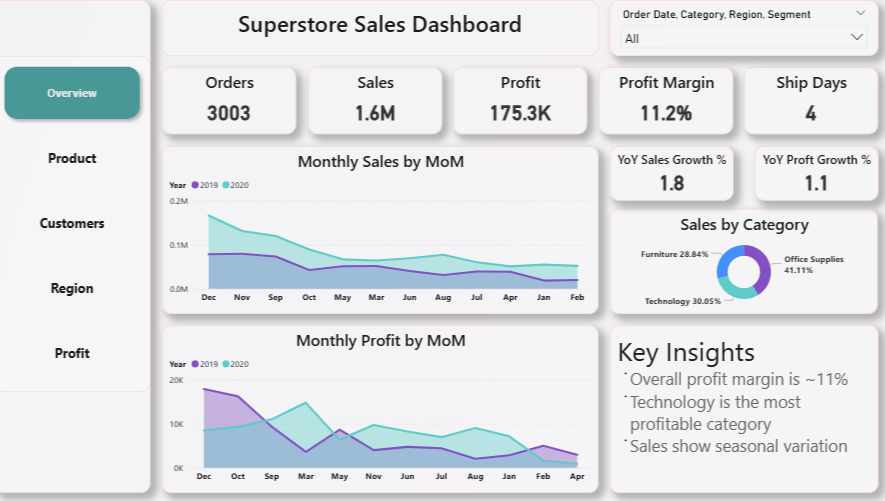

The page's visual inventory and layout, read from the dashboard file:
{"tool":"powerbi","page":{"name":"Overview","canvas":[1280,720],"ordinal":0},"visuals":[{"type":"group","id":"g1","title":"Group 1","box":[0,0,224,704],"z":0},{"type":"shape","box":[0,0,224,704],"z":0,"group":"g1"},{"type":"pageNavigator","box":[0,80,224,480],"z":1000,"group":"g1"},{"type":"card","title":"Profit","fields":{"Values":["Measures_Tables.Total Profit"]},"box":[656,96,192,96],"z":1000},{"type":"card","title":"Sales","fields":{"Values":["Measures_Tables.Total Sales"]},"box":[448,96,192,96],"z":2000},{"type":"card","title":"Orders","fields":{"Values":["Measures_Tables.Total Orders"]},"box":[240,96,192,96],"z":3000},{"type":"card","title":"Ship Days","fields":{"Values":["Avg(Sheet1.Avg Delivery)"]},"box":[1072,96,192,96],"z":4000},{"type":"card","title":"Profit Margin","fields":{"Values":["Measures_Tables.Profit Margin %"]},"box":[864,96,192,96],"z":5000},{"type":"textbox","box":[240,0,624,80],"z":6000},{"type":"slicer","fields":{"Values":["Sheet1.Order Date.Variation.Date Hierarchy.Year","Sheet1.Category","Sheet1.Region","Sheet1.Segment"]},"box":[880,0,384,80],"z":7000},{"type":"areaChart","title":"Monthly Sales by MoM","fields":{"Category":["Date Table.Month Name"],"Y":["Measures_Tables.Total Sales"],"Series":["Date Table.Year"]},"box":[240,208,624,240],"z":8000},{"type":"areaChart","title":"Monthly Profit by MoM","fields":{"Category":["Date Table.Month Name"],"Y":["Measures_Tables.Total Profit"],"Series":["Date Table.Year"]},"box":[240,464,624,240],"z":9000},{"type":"donutChart","title":"Sales by Category","fields":{"Category":["Sheet1.Category"],"Y":["Measures_Tables.Total Sales"]},"box":[880,298.3,383.3,150],"z":10000},{"type":"textbox","box":[880,464,384,240],"z":11000},{"type":"card","title":"YoY Sales Growth %","fields":{"Values":["Measures_Tables.YoY Sales Growth %"]},"box":[880,208.3,176.7,78.3],"z":12000},{"type":"card","title":"YoY Proft Growth %","fields":{"Values":["Measures_Tables.YoY Profit Growth %"]},"box":[1086.7,208.3,176.7,78.3],"z":13000}]}

Visuals, with their boxes in screenshot pixels (x1, y1, x2, y2), scaled from the page's 1280x720 canvas onto the 885x501 screenshot:
"Group 1" group: [left=0, top=0, right=155, bottom=490]
shape: [left=0, top=0, right=155, bottom=490]
pageNavigator: [left=0, top=56, right=155, bottom=390]
"Profit" card: [left=454, top=67, right=586, bottom=134]
"Sales" card: [left=310, top=67, right=442, bottom=134]
"Orders" card: [left=166, top=67, right=299, bottom=134]
"Ship Days" card: [left=741, top=67, right=874, bottom=134]
"Profit Margin" card: [left=597, top=67, right=730, bottom=134]
textbox: [left=166, top=0, right=597, bottom=56]
slicer - Sheet1.Order Date.Variation.Date Hierarchy.Year x Sheet1.Category: [left=608, top=0, right=874, bottom=56]
"Monthly Sales by MoM" areaChart: [left=166, top=145, right=597, bottom=312]
"Monthly Profit by MoM" areaChart: [left=166, top=323, right=597, bottom=490]
"Sales by Category" donutChart: [left=608, top=208, right=873, bottom=312]
textbox: [left=608, top=323, right=874, bottom=490]
"YoY Sales Growth %" card: [left=608, top=145, right=731, bottom=199]
"YoY Proft Growth %" card: [left=751, top=145, right=874, bottom=199]
